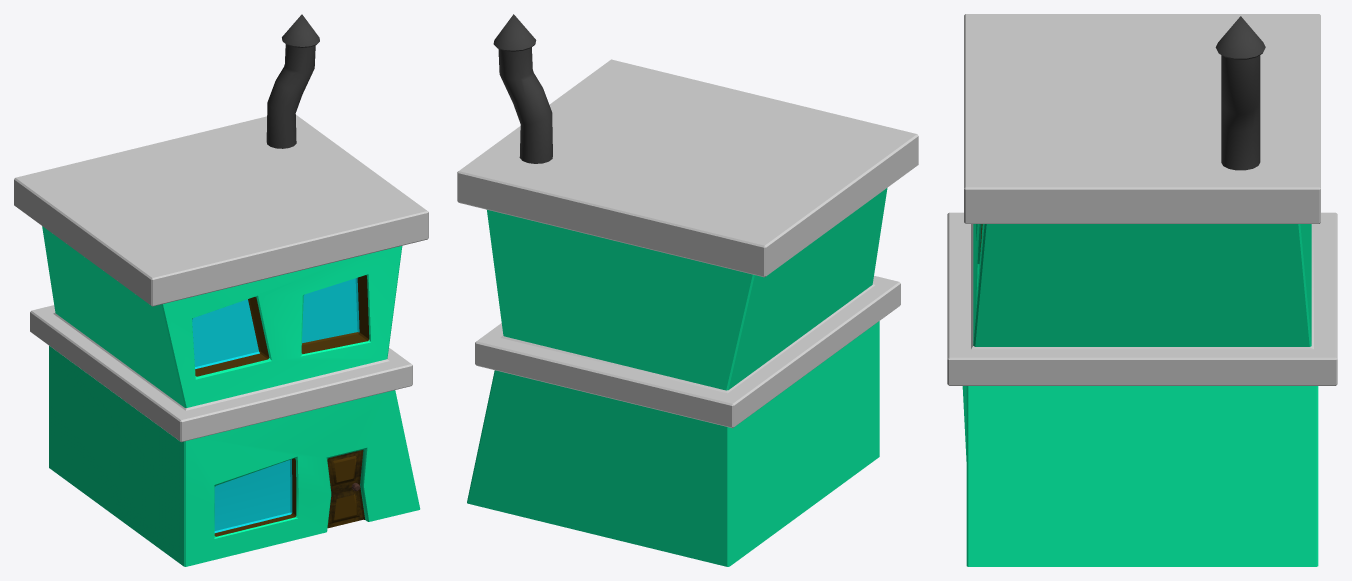
The model's file is PredioPequeno-CianoLOD0.fbx.
3 views of the same model, side by side, from view 1: azimuth 30°, elevation 25°; view 2: azimuth 150°, elevation 25°; view 3: azimuth 270°, elevation 25° (orthographic). The views are drawn at different scales.
Parts seen in each view (by area): view 1: Predio2Andares; view 2: Predio2Andares; view 3: Predio2Andares.
Boxes of the visible parts, x1,y1,x2,y2 form: Predio2Andares: [14, 14, 428, 566]; Predio2Andares: [457, 14, 918, 566]; Predio2Andares: [947, 14, 1337, 566].
Bounding box in the file's own units: 715 × 1035 × 675.
